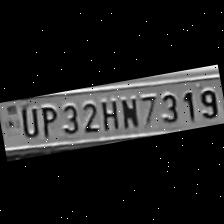1: (176, 86, 199, 122)
2: (75, 96, 101, 132)
3: (152, 88, 181, 125), (54, 98, 80, 134)
7: (134, 90, 158, 128)
9: (192, 83, 221, 120)
H: (94, 94, 120, 130)
N: (114, 92, 140, 129)
P: (34, 100, 58, 136)
U: (14, 103, 38, 139)
